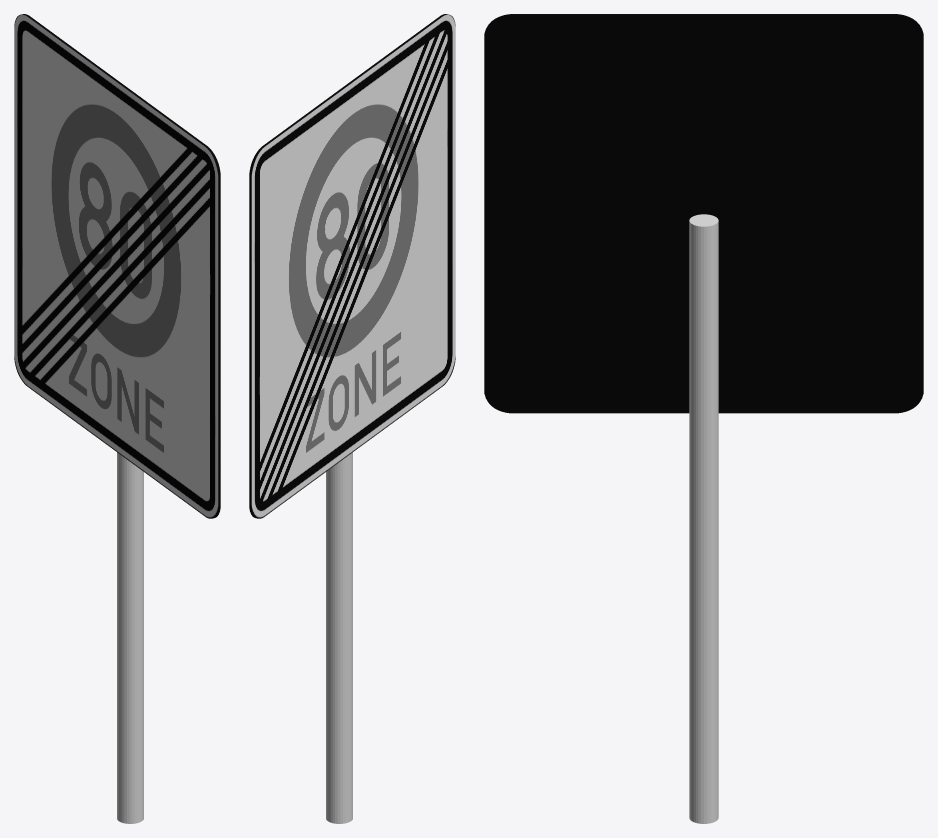
File: speed_limit_zone_80_end_sign.dae
3 renders of one model, left to right at view 1: azimuth 30°, elevation 25°; view 2: azimuth 150°, elevation 25°; view 3: azimuth 270°, elevation 25°, orthographic. The views are drawn at different scales.
Visible parts, largest first — view 1: path3678, Cylinder; view 2: path3678, Cylinder; view 3: path3678, Cylinder.
Part boxes in pixels (x1,y1,x2,y2): path3678: (14, 14, 220, 518); Cylinder: (117, 452, 143, 823); path3678: (249, 14, 455, 518); Cylinder: (326, 452, 352, 823); path3678: (484, 14, 923, 413); Cylinder: (689, 214, 718, 823).
Size of the model in its own units: 0.011 by 0.15 by 0.3.
3 materials, 2 textured.
